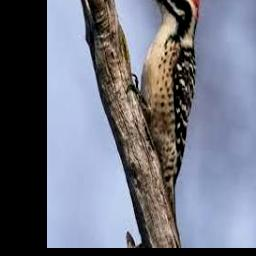Woodpecker: (127, 0, 202, 220)
